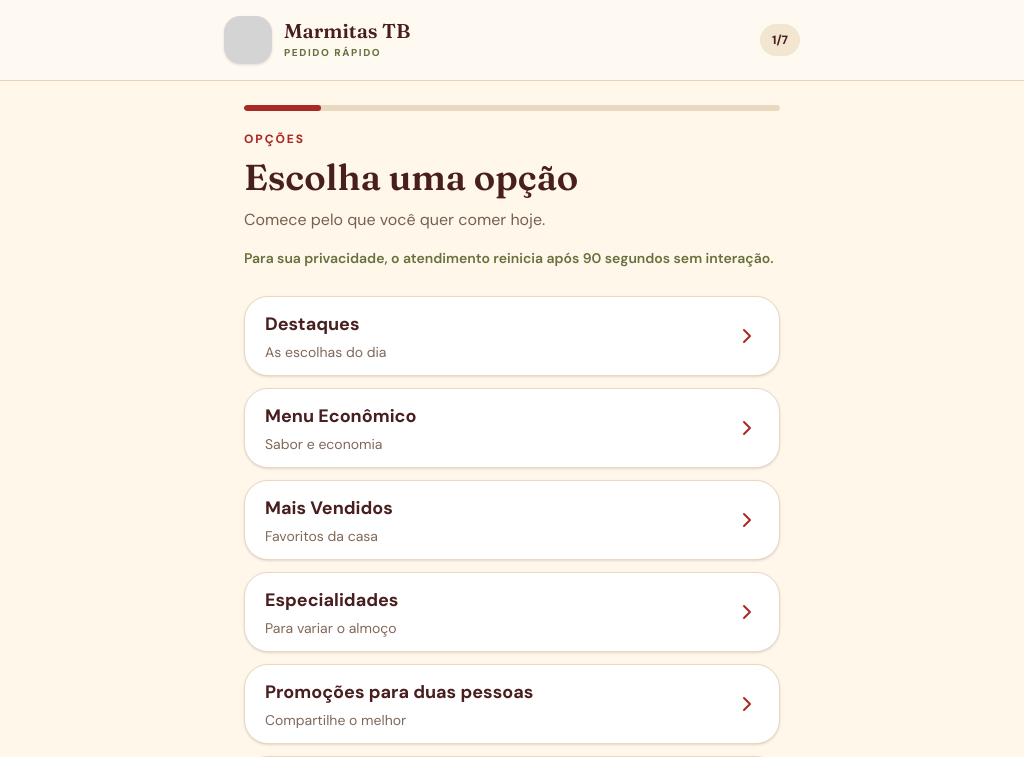
Totem › volta com destino claro e preserva a marmita já escolhida
Click the button "Destaques As escolhas do dia".
click(312, 324)  # box [244,296,780,376]
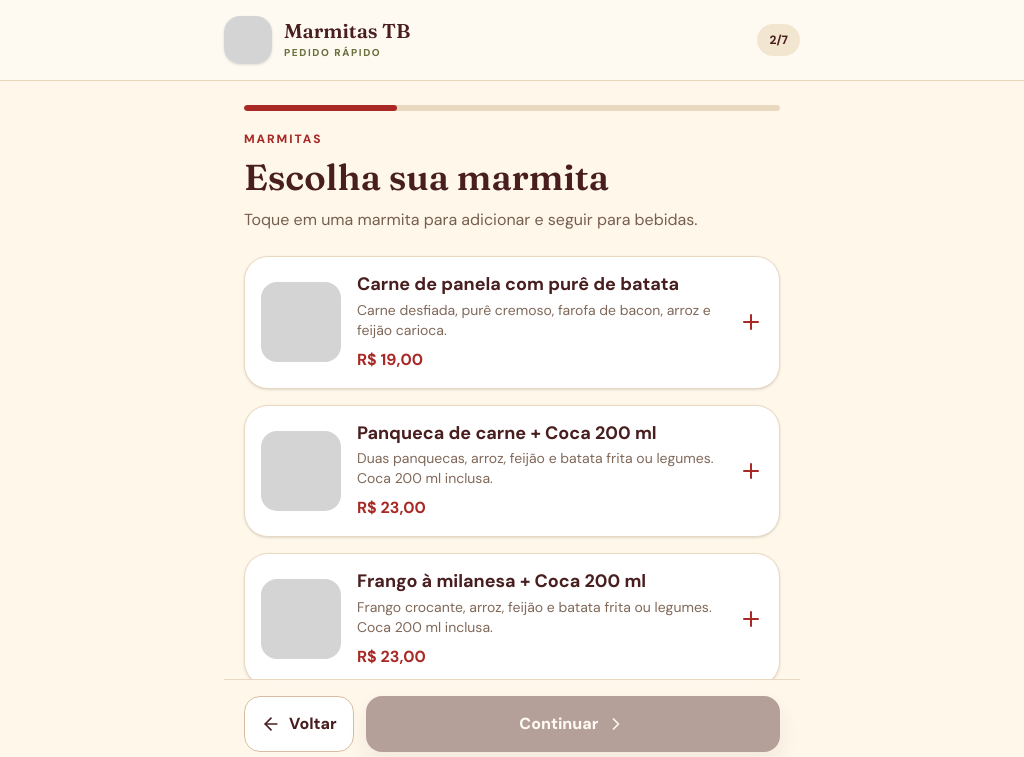
Click the button that starts with "Carne de panela com purê de batata".
click(301, 322)  # box [245,257,779,388]
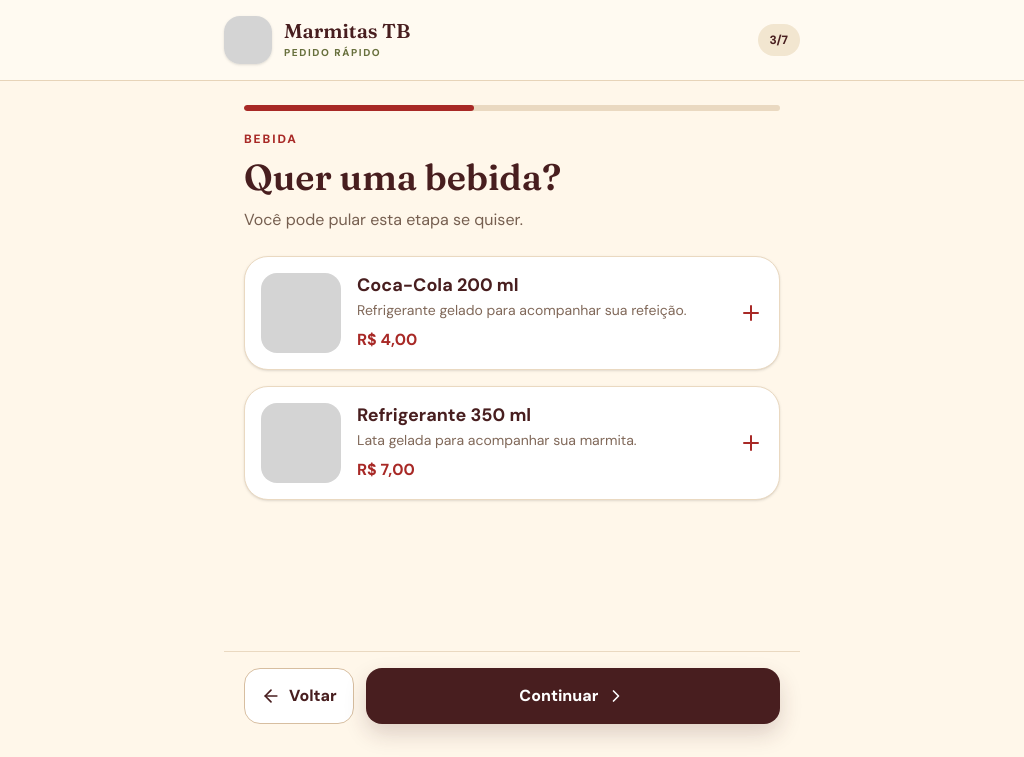
Check: the heading "Quer uma bebida?" is shown, box [244,155,561,199]
Click the button with aria-label "voltar para marmitas".
click(299, 696)  # box [244,668,354,724]
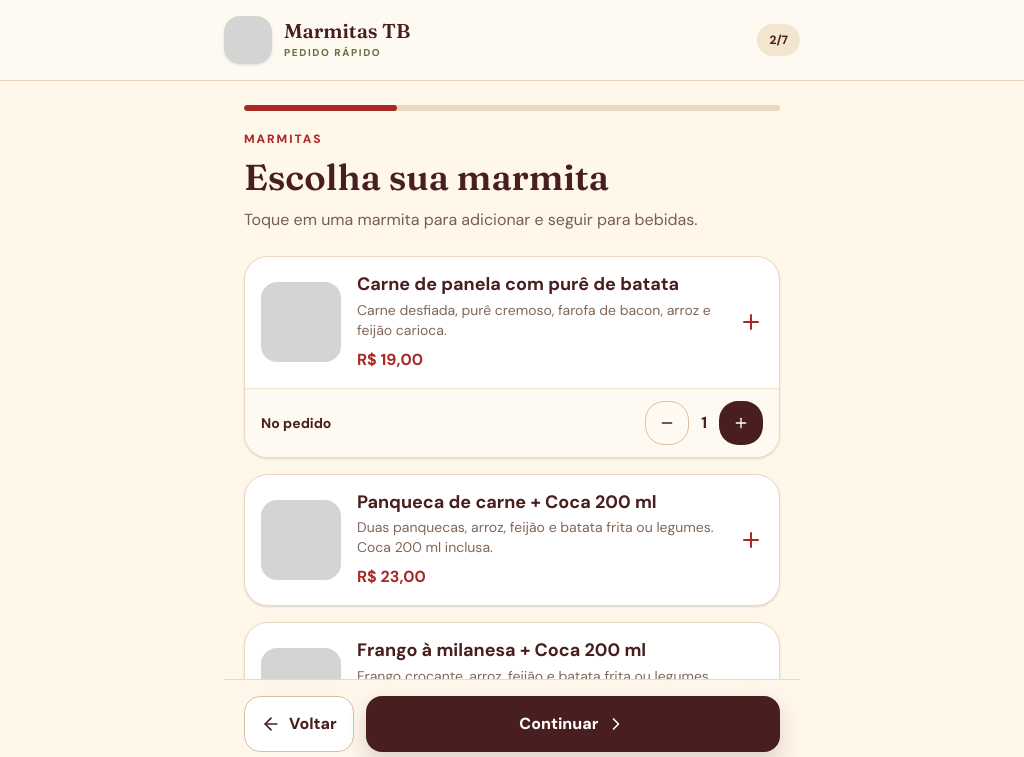
Check: the heading "Escolha sua marmita" is shown, box [244,155,609,199]
Check: the text "No pedido" is shown, box [261,412,331,432]
